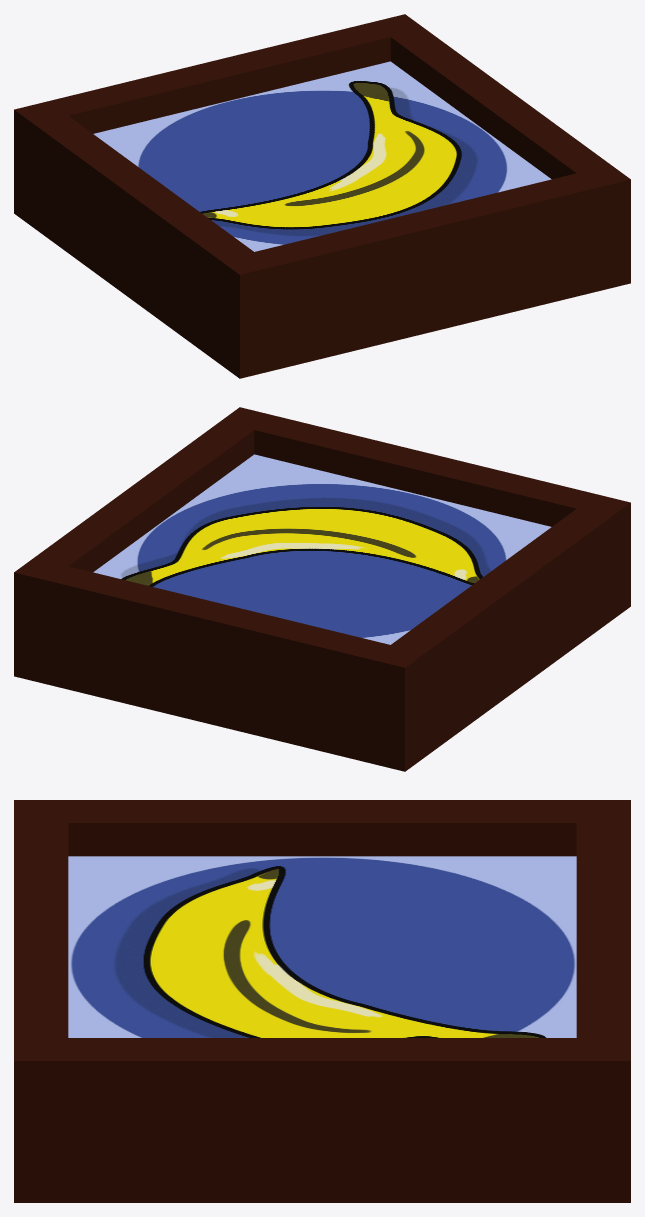
Rendered from disk_banan.FBX.
3 renders of one model, top to bottom at view 1: azimuth 30°, elevation 25°; view 2: azimuth 150°, elevation 25°; view 3: azimuth 270°, elevation 25°, orthographic. The views are drawn at different scales.
Parts seen in each view (by area): view 1: Box051; view 2: Box051; view 3: Box051.
Boxes of the visible parts, bbox=[...] form: Box051: bbox=[14, 14, 630, 378]; Box051: bbox=[14, 407, 630, 771]; Box051: bbox=[14, 800, 630, 1202].
Size of the model in its own units: 197 by 49.99 by 197.
